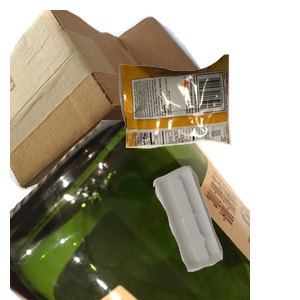cardboard: (10, 10, 206, 190)
glass: (10, 120, 250, 300)
plastic: (150, 163, 300, 300)
trash: (117, 52, 300, 193)
